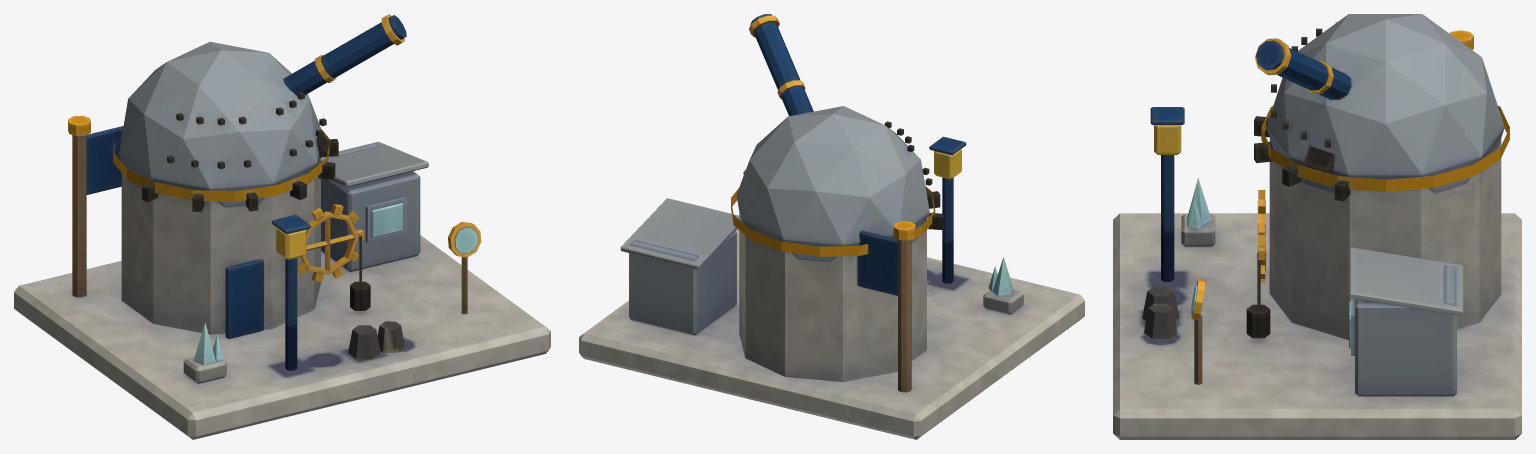
File: observatory-15.glb
The picture shows the model from 3 angles, left to right: view 1: azimuth 30°, elevation 25°; view 2: azimuth 150°, elevation 25°; view 3: azimuth 270°, elevation 25°; orthographic projection. The views are drawn at different scales.
Parts seen in each view (by area): view 1: observatory-15; view 2: observatory-15; view 3: observatory-15.
Boxes of the visible parts, x1,y1,x2,y2 form: observatory-15: (14,14,550,439); observatory-15: (579,14,1084,439); observatory-15: (1113,14,1521,439).
Bounding box in the file's own units: 1.4 × 1.14 × 1.2.
1 material, 1 textured.
